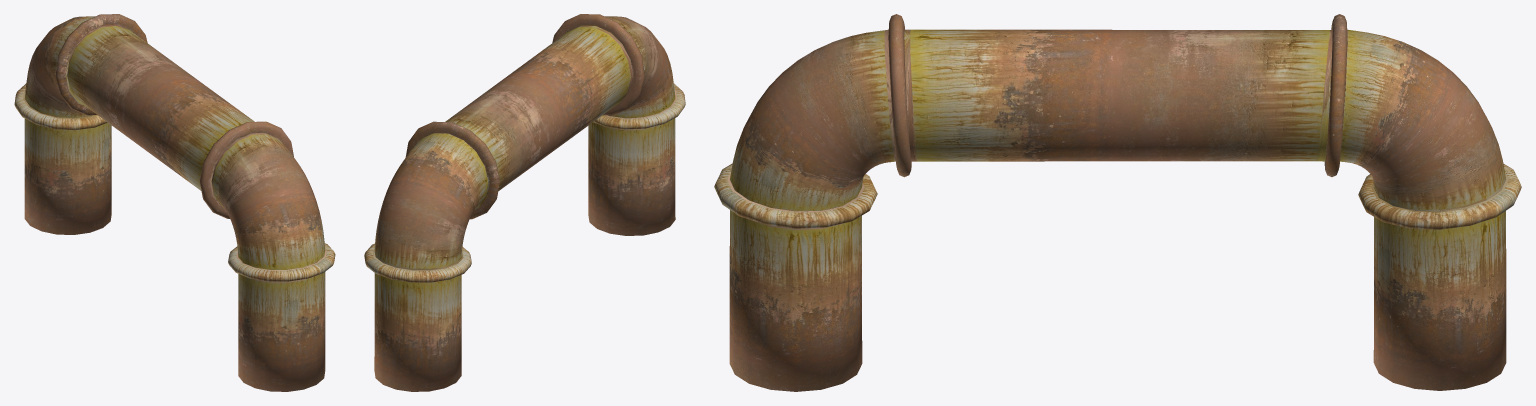
The model's file is POIPE.fbx.
3 renders of one model, left to right at view 1: azimuth 30°, elevation 25°; view 2: azimuth 150°, elevation 25°; view 3: azimuth 270°, elevation 25°, orthographic. The views are drawn at different scales.
Visible parts, largest first — view 1: Plane; view 2: Plane; view 3: Plane.
Part boxes in pixels (box(x1,y1,x2,y2)): Plane: box(14, 14, 335, 391); Plane: box(364, 14, 685, 391); Plane: box(714, 14, 1521, 391).
Size of the model in its own units: 306 by 706 by 1508.
